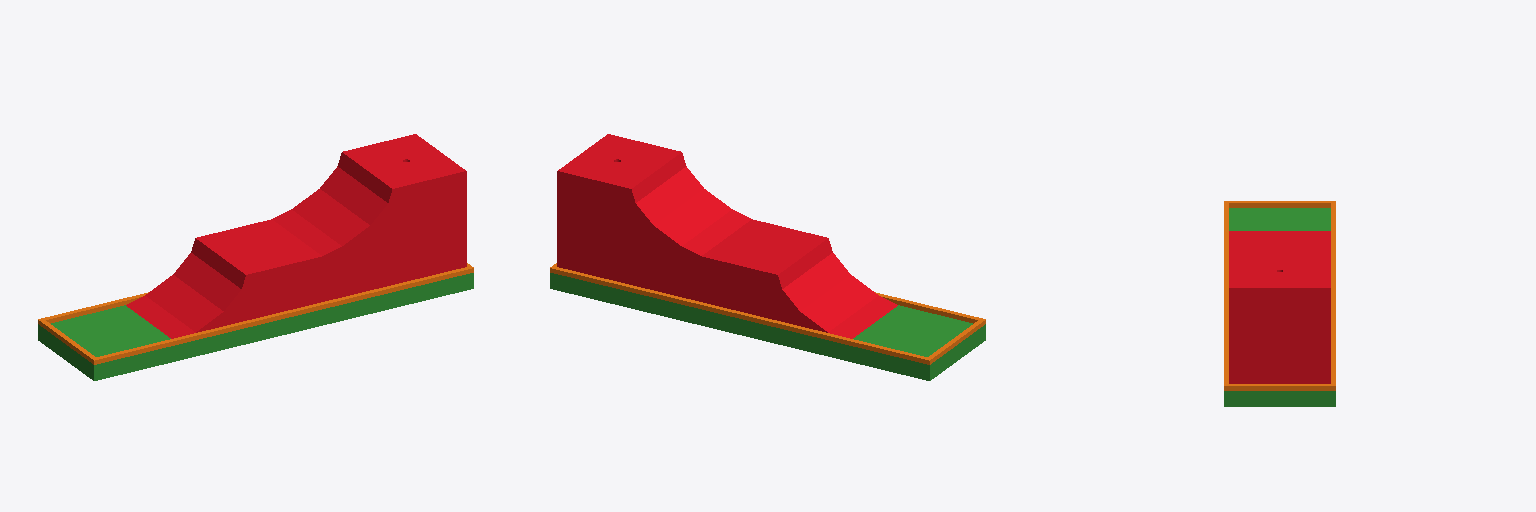
File: tinker.obj
3 views of the same model, side by side, from view 1: azimuth 30°, elevation 25°; view 2: azimuth 150°, elevation 25°; view 3: azimuth 270°, elevation 25° (orthographic).
Visible parts, largest first — view 1: obj_0; view 2: obj_0; view 3: obj_0.
Part boxes in pixels (x1,y1,x2,y2): obj_0: (38, 134, 473, 380); obj_0: (550, 134, 985, 380); obj_0: (1224, 201, 1335, 406).
Bounding box in the file's own units: 158 × 46.48 × 40.67.